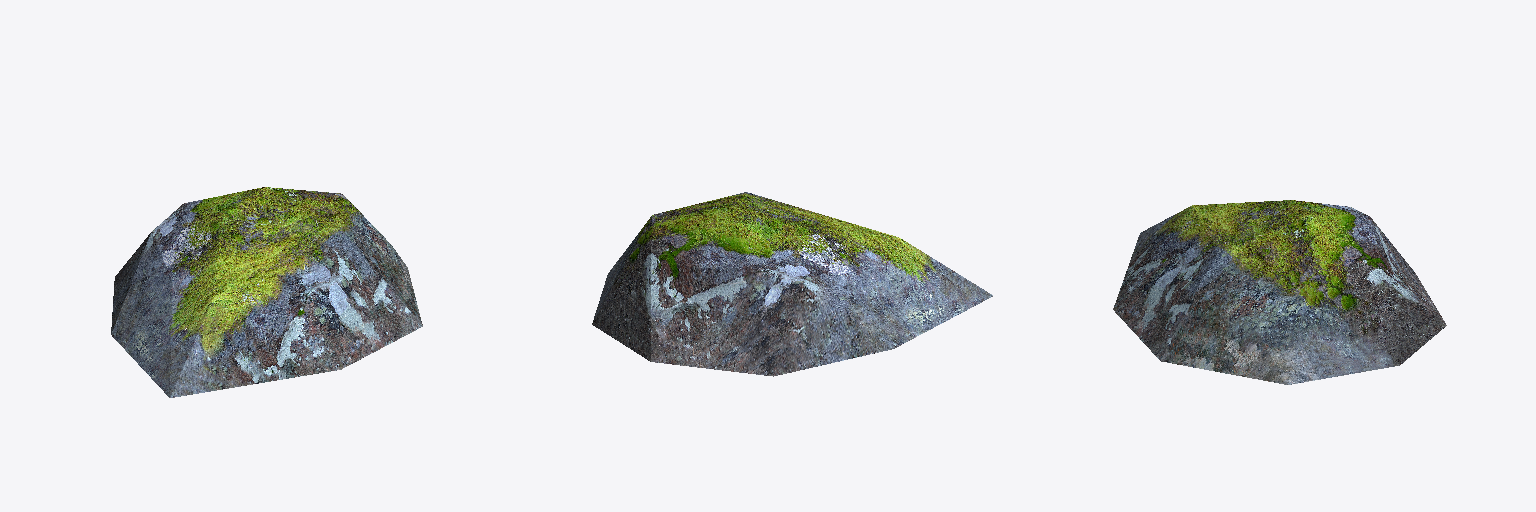
3 views of the same model, side by side, from view 1: azimuth 30°, elevation 25°; view 2: azimuth 150°, elevation 25°; view 3: azimuth 270°, elevation 25° (orthographic).
Visible parts, largest first — view 1: pCube1; view 2: pCube1; view 3: pCube1.
Part boxes in pixels (left/top/right/bottom): pCube1: left=111, top=187, right=422, bottom=397; pCube1: left=592, top=192, right=992, bottom=376; pCube1: left=1113, top=200, right=1446, bottom=384.
Bounding box in the file's own units: 21.23 × 6.9 × 19.67.
Materials: 1 (1 with a texture image).